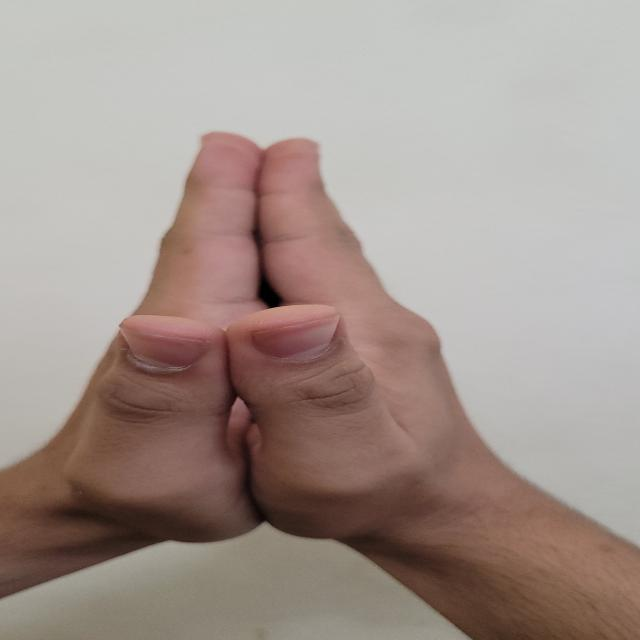Thank You: (29, 125, 529, 578)
